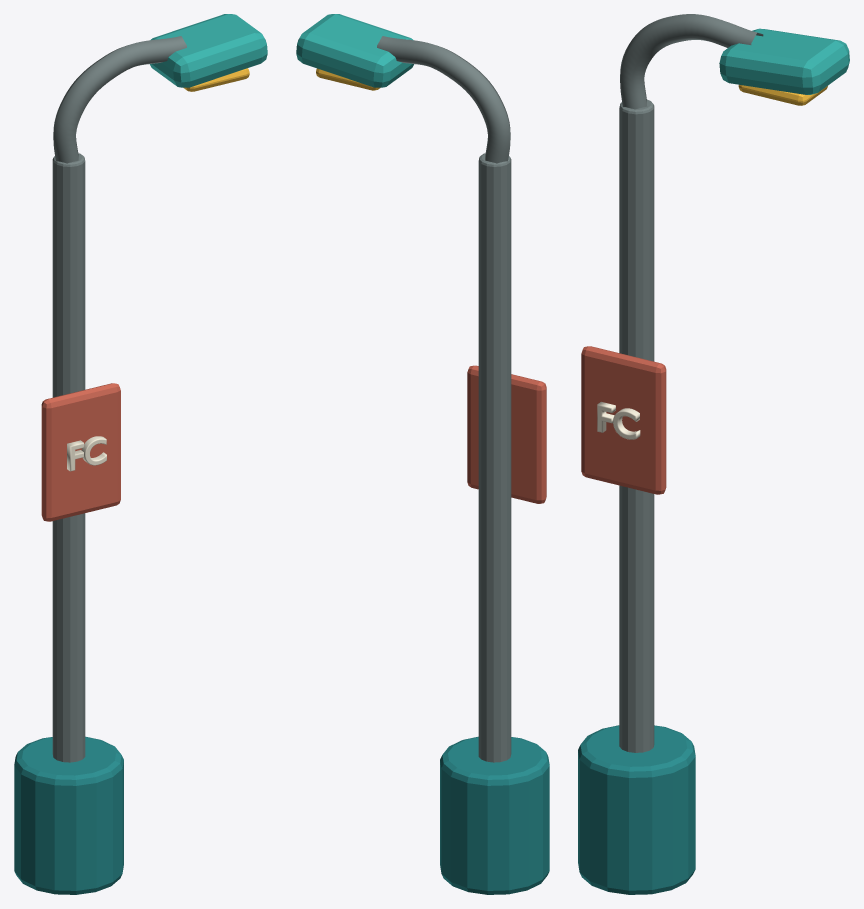
File: streetlamp-v2.glb
3 views of the same model, side by side, from view 1: azimuth 30°, elevation 25°; view 2: azimuth 150°, elevation 25°; view 3: azimuth 330°, elevation 25° (orthographic). The views are drawn at different scales.
Visible parts, largest first — view 1: TROPICAL STREETLAMP · Dark metal, TROPICAL STREETLAMP · Deep teal, TROPICAL STREETLAMP · Terracotta, TROPICAL STREETLAMP · Weathered teal, TROPICAL STREETLAMP · Chalk, TROPICAL STREETLAMP · Signal yellow; view 2: TROPICAL STREETLAMP · Dark metal, TROPICAL STREETLAMP · Deep teal, TROPICAL STREETLAMP · Terracotta, TROPICAL STREETLAMP · Weathered teal; view 3: TROPICAL STREETLAMP · Dark metal, TROPICAL STREETLAMP · Deep teal, TROPICAL STREETLAMP · Terracotta, TROPICAL STREETLAMP · Weathered teal, TROPICAL STREETLAMP · Chalk, TROPICAL STREETLAMP · Signal yellow.
Boxes of the visible parts, x1,y1,x2,y2 form: TROPICAL STREETLAMP · Dark metal: (52, 36, 186, 762); TROPICAL STREETLAMP · Deep teal: (14, 736, 123, 894); TROPICAL STREETLAMP · Terracotta: (41, 383, 120, 521); TROPICAL STREETLAMP · Weathered teal: (149, 14, 267, 87); TROPICAL STREETLAMP · Chalk: (67, 436, 106, 471); TROPICAL STREETLAMP · Signal yellow: (183, 68, 249, 91); TROPICAL STREETLAMP · Dark metal: (377, 36, 511, 762); TROPICAL STREETLAMP · Deep teal: (440, 736, 549, 894); TROPICAL STREETLAMP · Terracotta: (467, 365, 546, 503); TROPICAL STREETLAMP · Weathered teal: (296, 14, 414, 87); TROPICAL STREETLAMP · Dark metal: (619, 14, 763, 752); TROPICAL STREETLAMP · Deep teal: (578, 725, 695, 894); TROPICAL STREETLAMP · Terracotta: (581, 346, 666, 494); TROPICAL STREETLAMP · Weathered teal: (719, 28, 849, 94); TROPICAL STREETLAMP · Chalk: (597, 401, 640, 439); TROPICAL STREETLAMP · Signal yellow: (738, 84, 827, 105).
Size of the model in its own units: 1.55 by 5.2 by 0.64.
